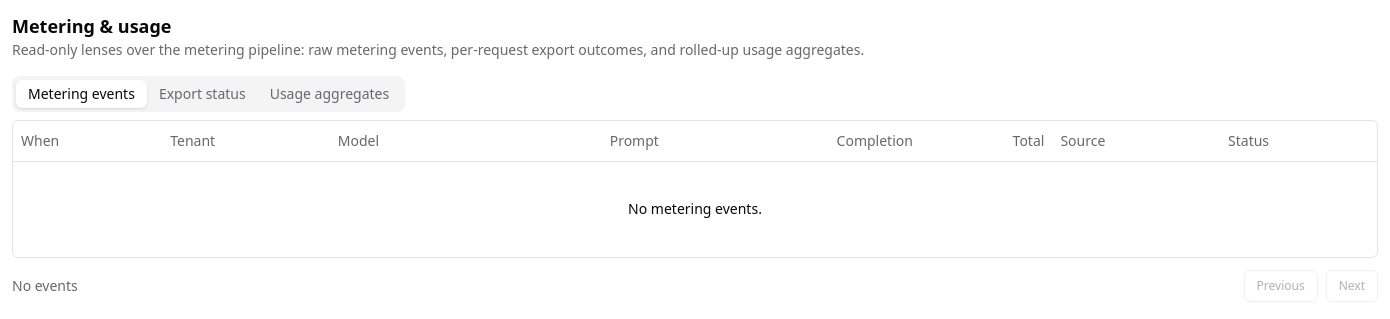
renders the export status tab
The image size is (1390, 319).
Click the tab "Export status". click: coordinates (202, 94)
box: [147,80,258,108]
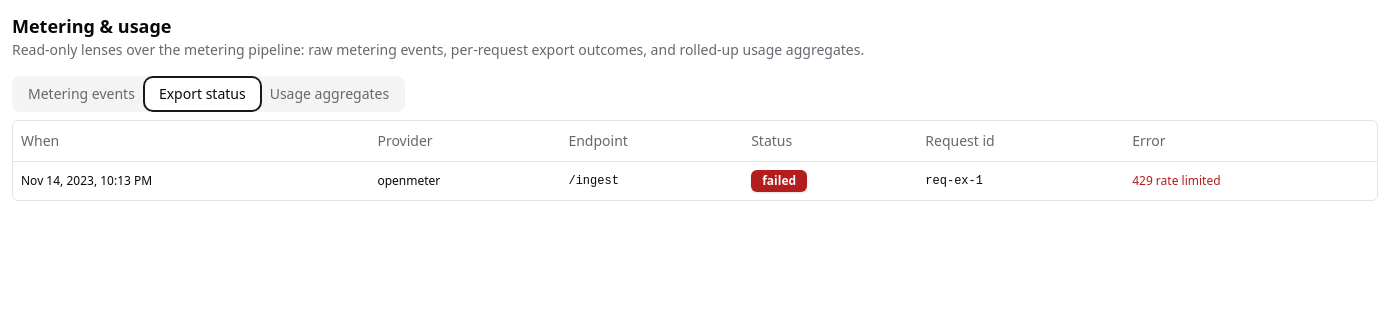
Check: the text "req-ex-1" is shown, box [917,161,1124,200]
Check: the text "/ingest" is shown, box [560,161,743,200]
Check: the text "failed" is shown, box [751,170,807,192]
